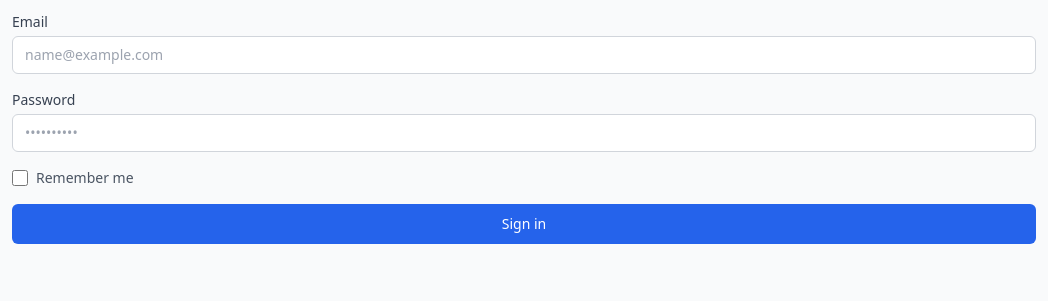
Test: LoginForm › shows validation errors when submitted empty
Click the button "Sign in" at (524,224), box top-left (12, 204), bottom-right (1036, 244)
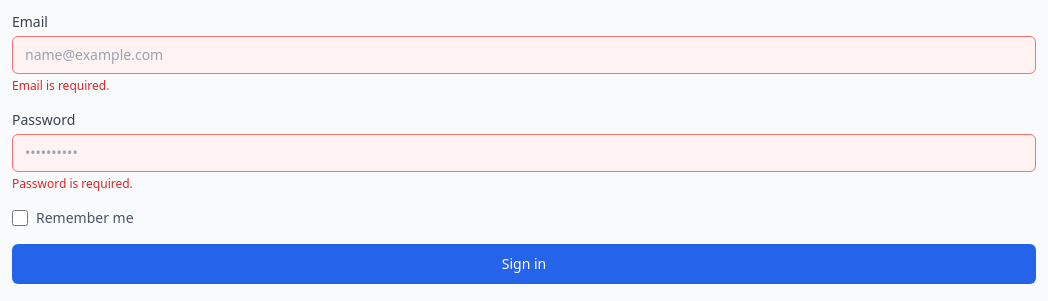
Result: the text "Email is required." is shown at top-left (12, 77), bottom-right (109, 94)
Result: the text "Password is required." is shown at top-left (12, 175), bottom-right (133, 192)
